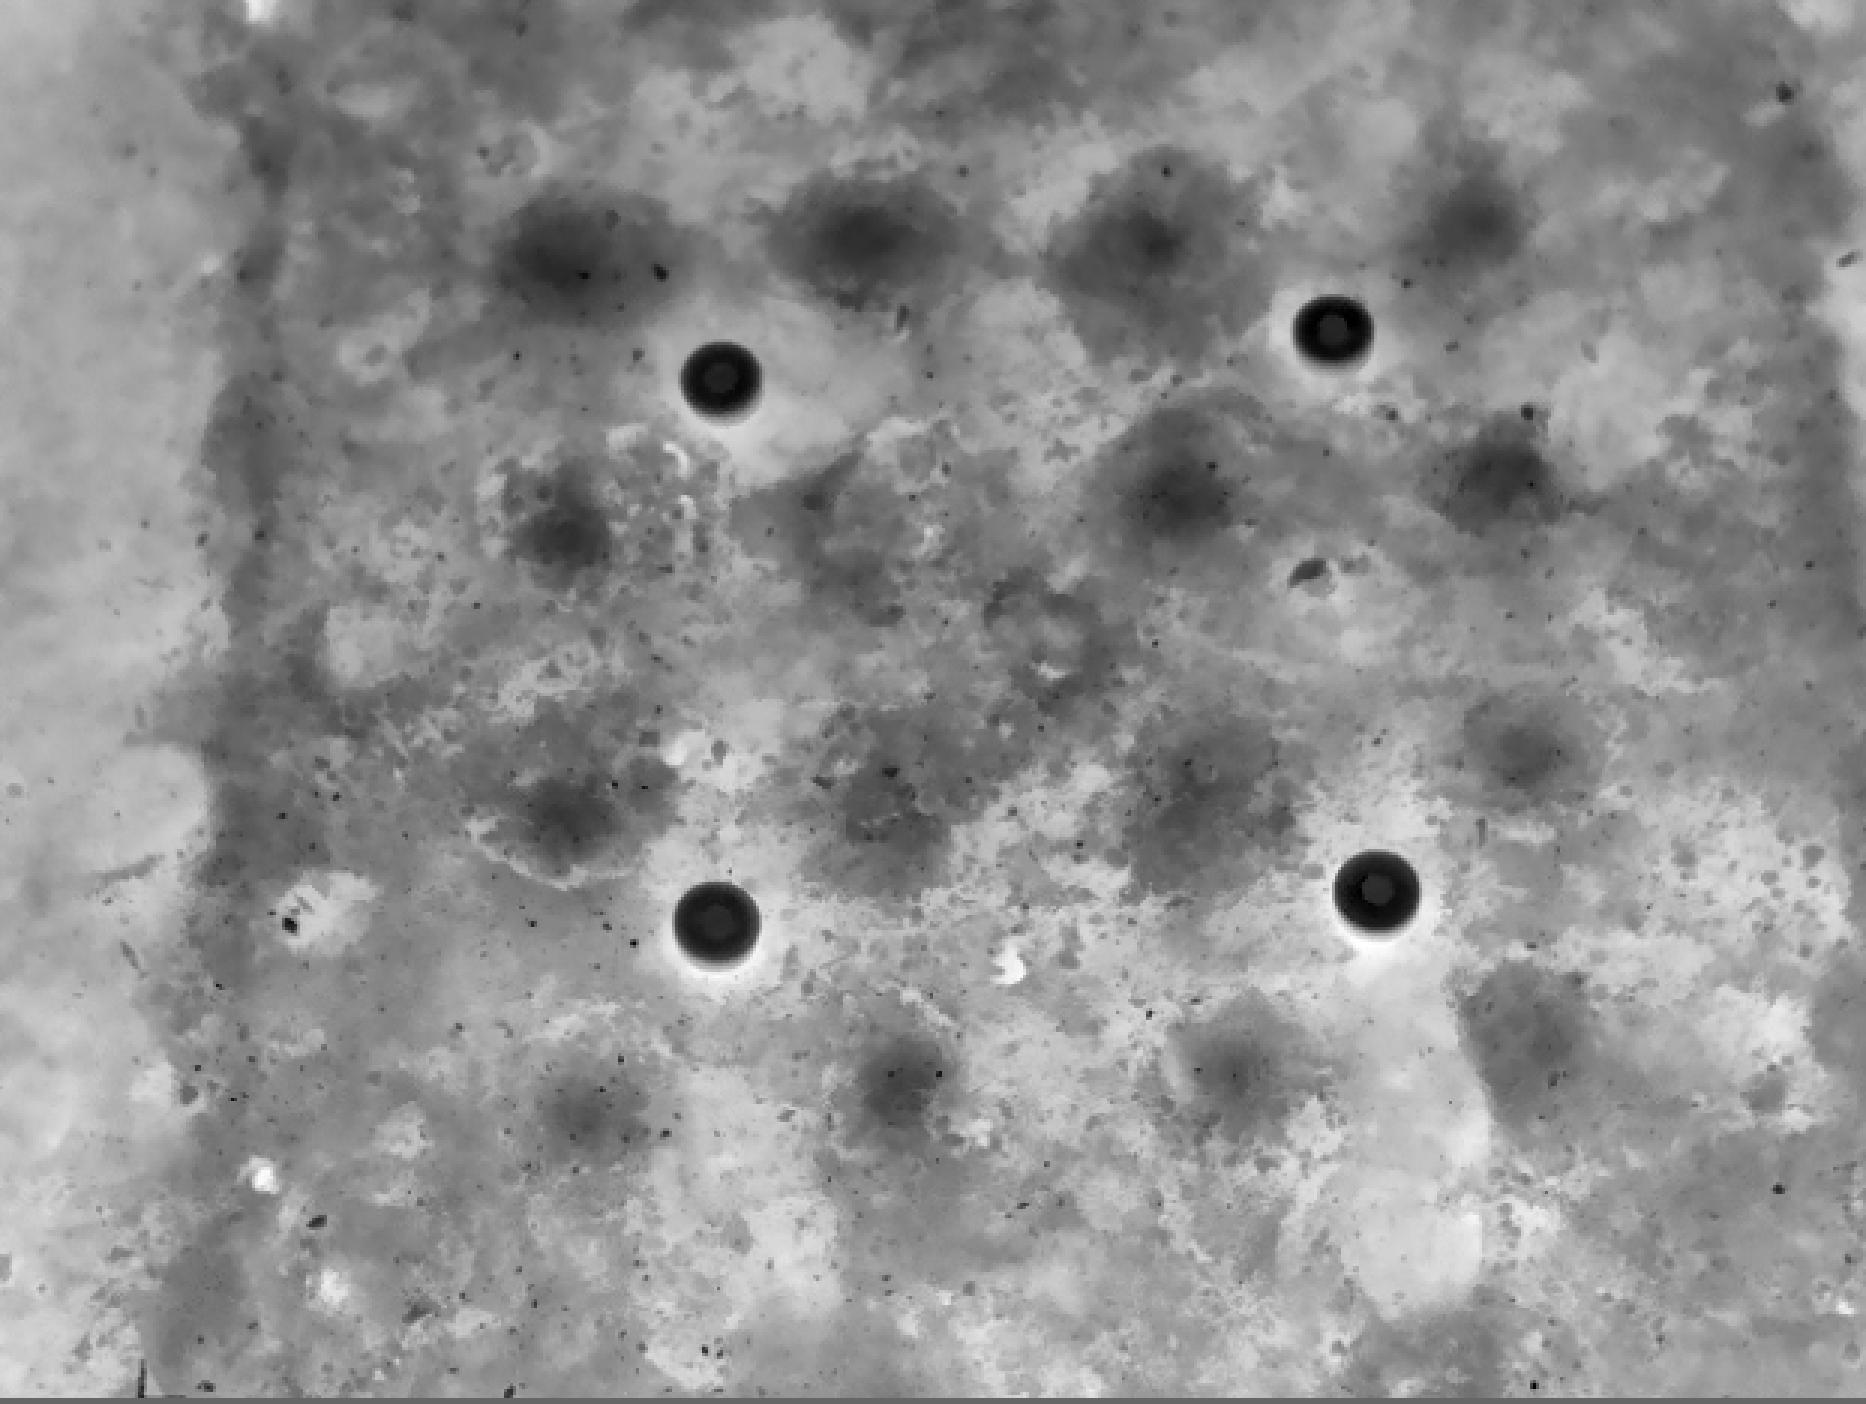mines-gjV8: (1322, 845, 1429, 944), (1288, 292, 1395, 389), (679, 877, 776, 973), (679, 342, 766, 416)
